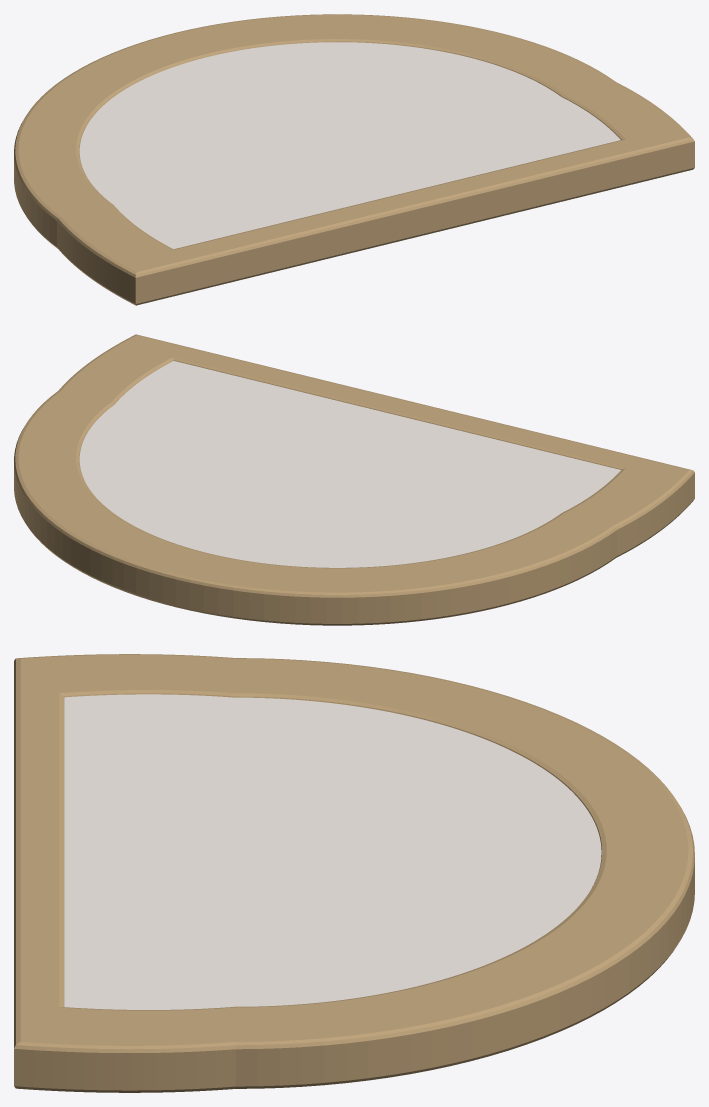
The model's file is bread_white_papercut.glb.
The picture shows the model from 3 angles, top to bottom: view 1: azimuth 30°, elevation 25°; view 2: azimuth 150°, elevation 25°; view 3: azimuth 270°, elevation 25°; orthographic projection. The views are drawn at different scales.
Parts seen in each view (by area): view 1: bread_crumb, bread_crust_ring; view 2: bread_crumb, bread_crust_ring; view 3: bread_crumb, bread_crust_ring.
Part boxes in pixels (x1,y1,x2,y2): bread_crumb: (79, 42, 620, 249); bread_crust_ring: (14, 14, 694, 305); bread_crumb: (79, 361, 620, 567); bread_crust_ring: (14, 334, 694, 625); bread_crumb: (64, 694, 601, 1009); bread_crust_ring: (14, 654, 694, 1092).
Size of the model in its own units: 2.2 by 0.1198 by 1.6.
